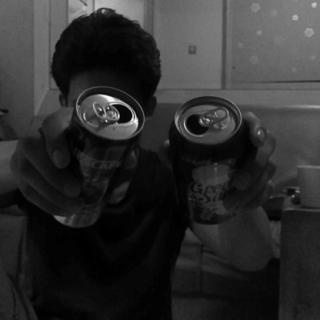alumunium_can: (49, 85, 146, 231), (168, 97, 261, 224)
